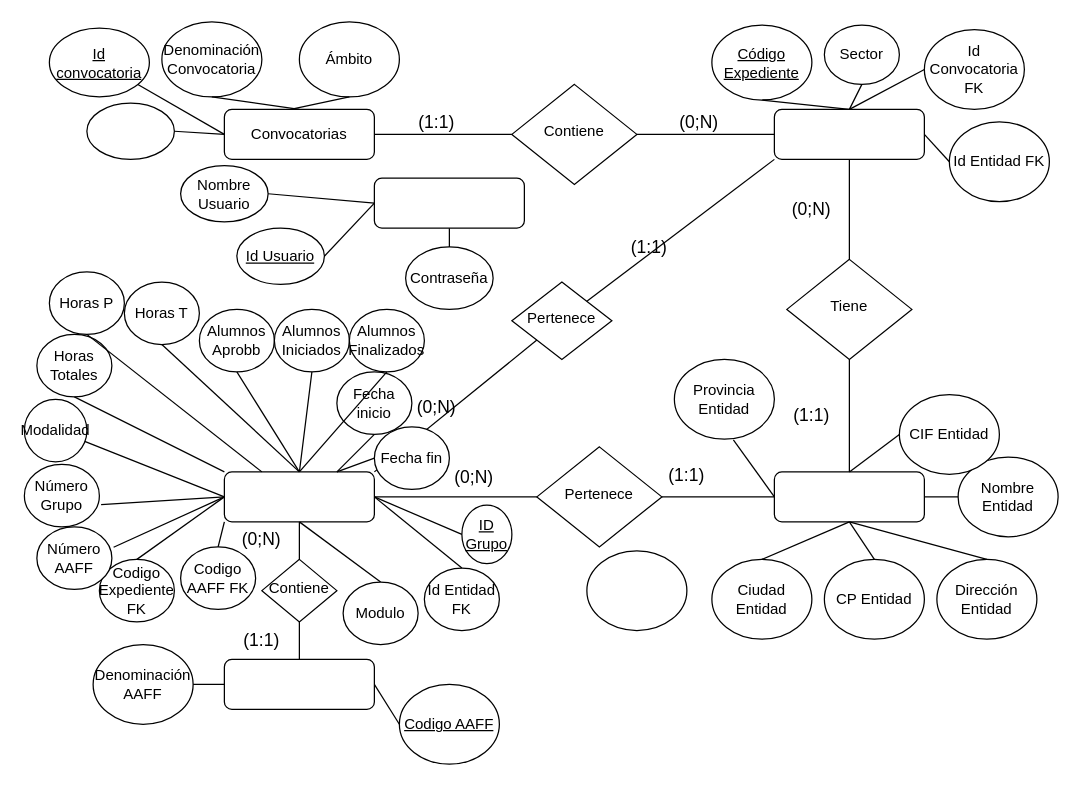
This 1080x786 diagram has some shape labels left out. The box of each missing label's shape, as (x1, y1, x2, y2) in pixels:
AccionesFormativas: (223, 658, 374, 709)
Anualidad: (86, 102, 174, 159)
Entidades: (773, 471, 924, 522)
Expedientes: (773, 108, 924, 159)
Grupos: (223, 471, 374, 522)
Id Entidad: (586, 550, 687, 630)
Usuarios: (373, 177, 524, 228)
